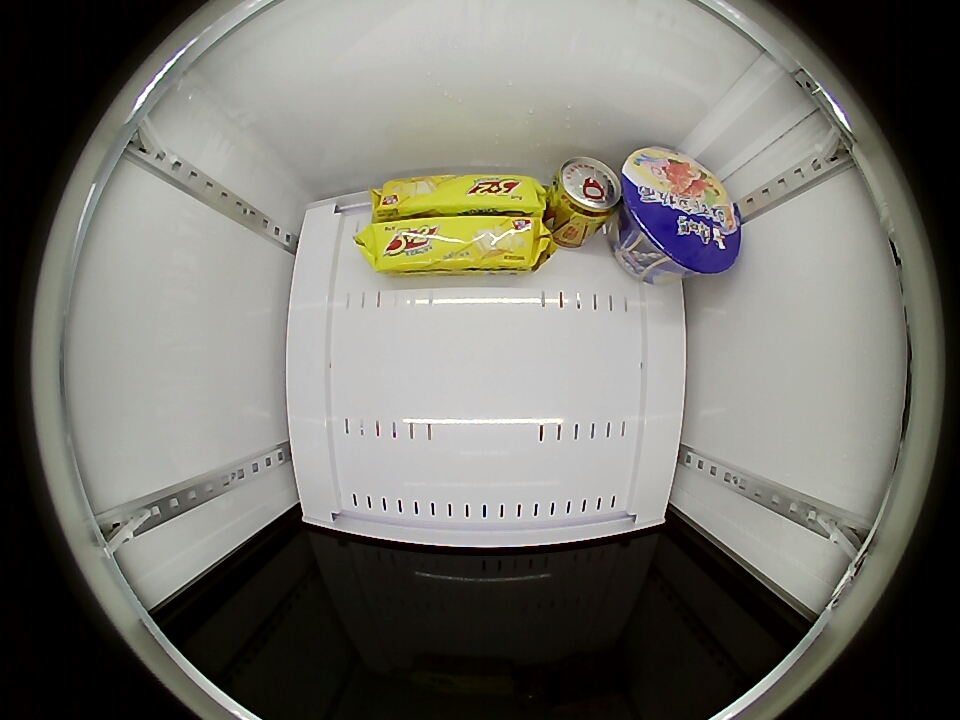3+2-2: (366, 216, 545, 274), (369, 173, 547, 218)
dongpeng: (549, 155, 622, 226)
xianxiayuban: (621, 146, 742, 274)
